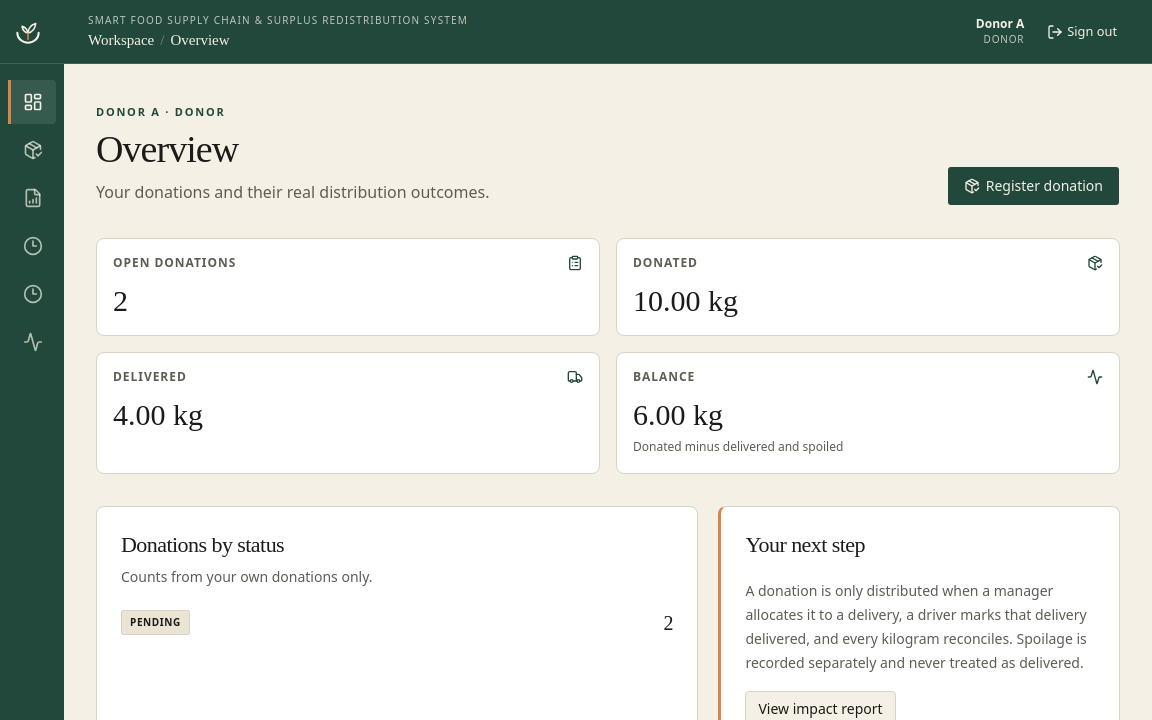
Test: application shell › renders role navigation and moves to a role screen
Expected: the heading "Overview" is shown, [96,128,238,170]
Click the link named "Donations" at (33, 150), box [23,140,43,160]
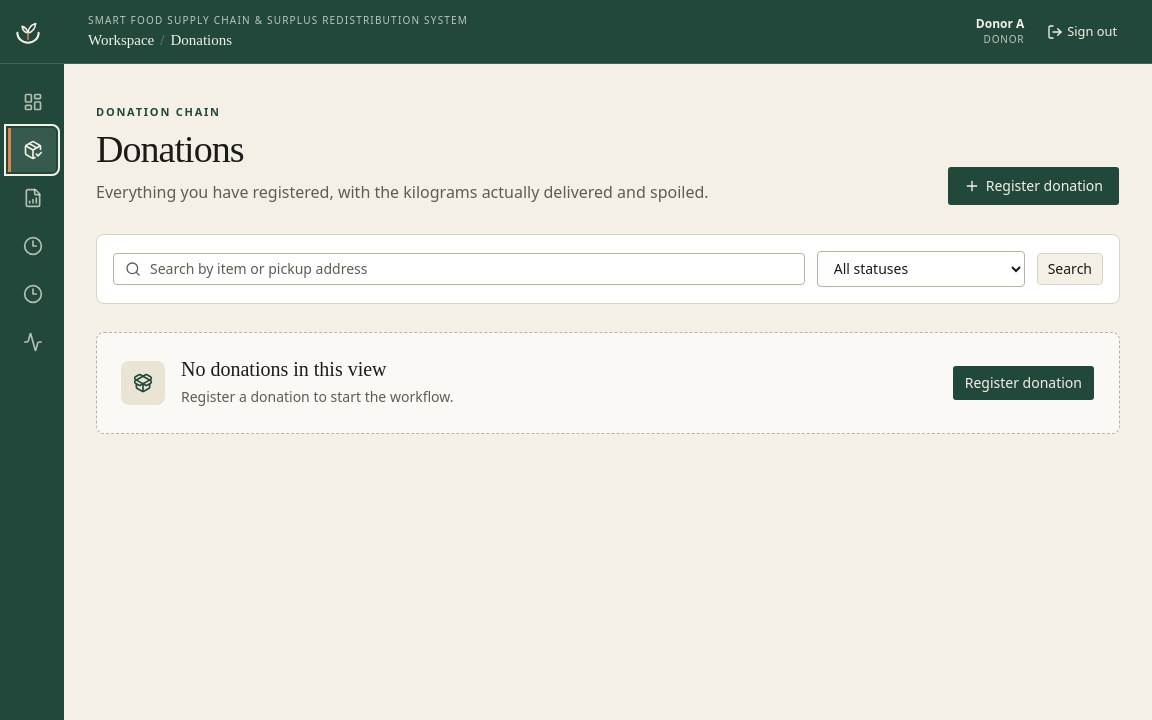
Expected: the 1st link "Register donation" is shown, [947,166,1120,206]
Result: the heading "Donations" is shown at [96,128,244,170]
